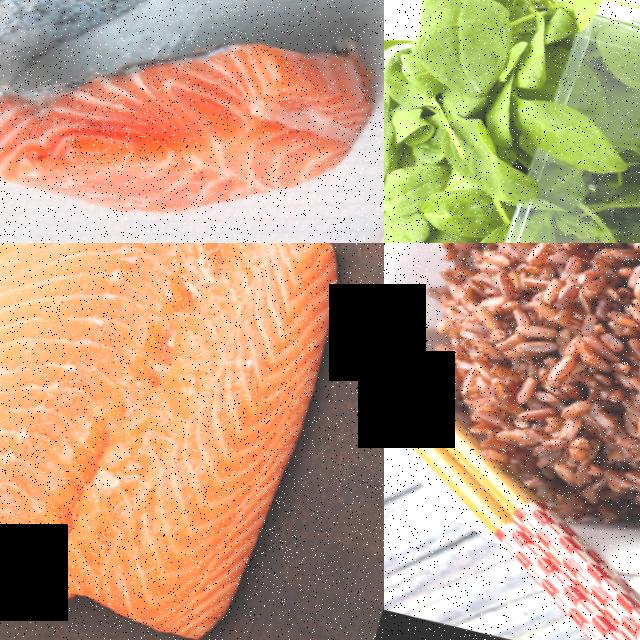red rice: (423, 243, 640, 489)
salmon: (0, 243, 358, 640), (0, 0, 384, 243)
spinach: (401, 0, 524, 100), (508, 94, 640, 183), (421, 179, 501, 242), (584, 20, 640, 97), (384, 155, 431, 219), (384, 84, 406, 198), (543, 0, 615, 15)
